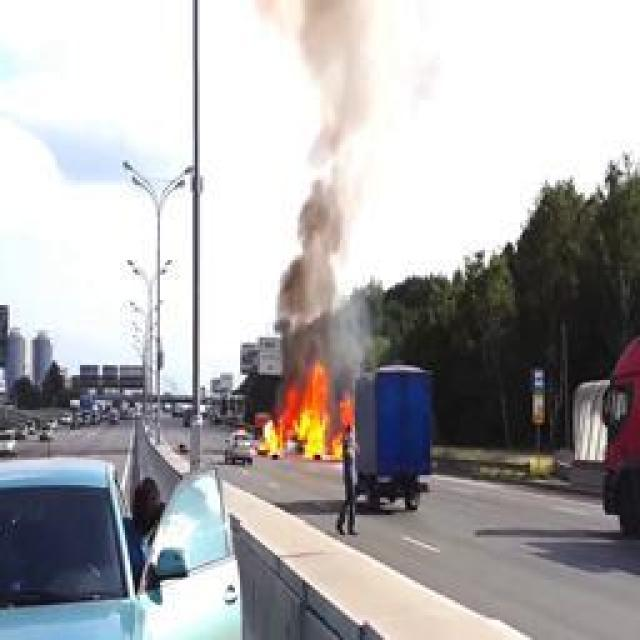Fire: (265, 361, 355, 461)
